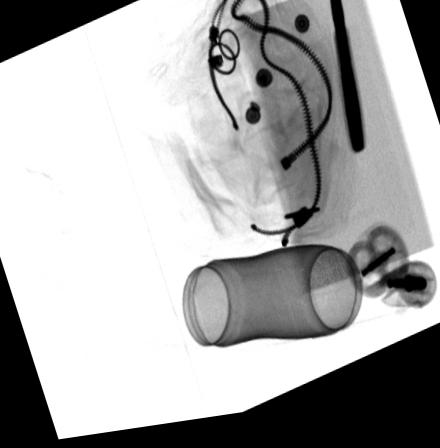Pliers: (328, 0, 367, 166)
